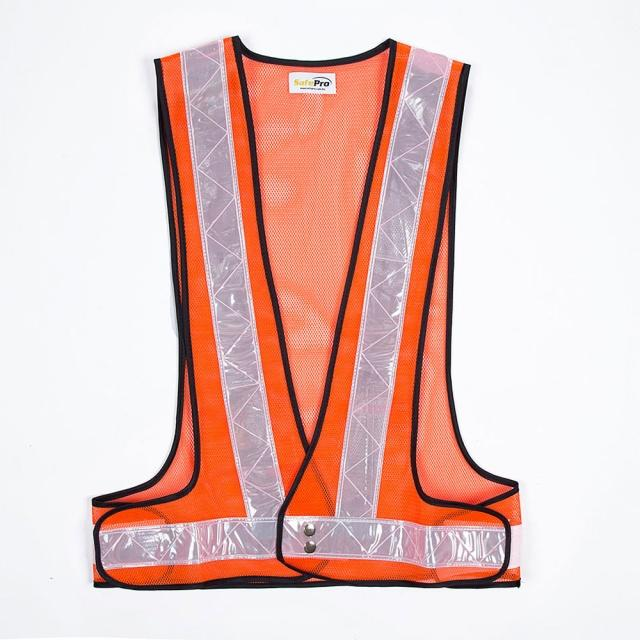vest: (87, 47, 523, 640)
